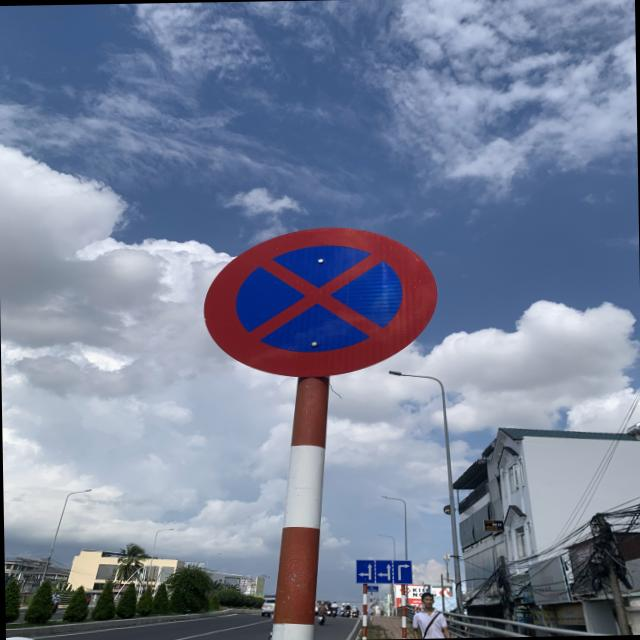Cam_Dung_Va_Dau_Xe: (199, 223, 441, 380)
